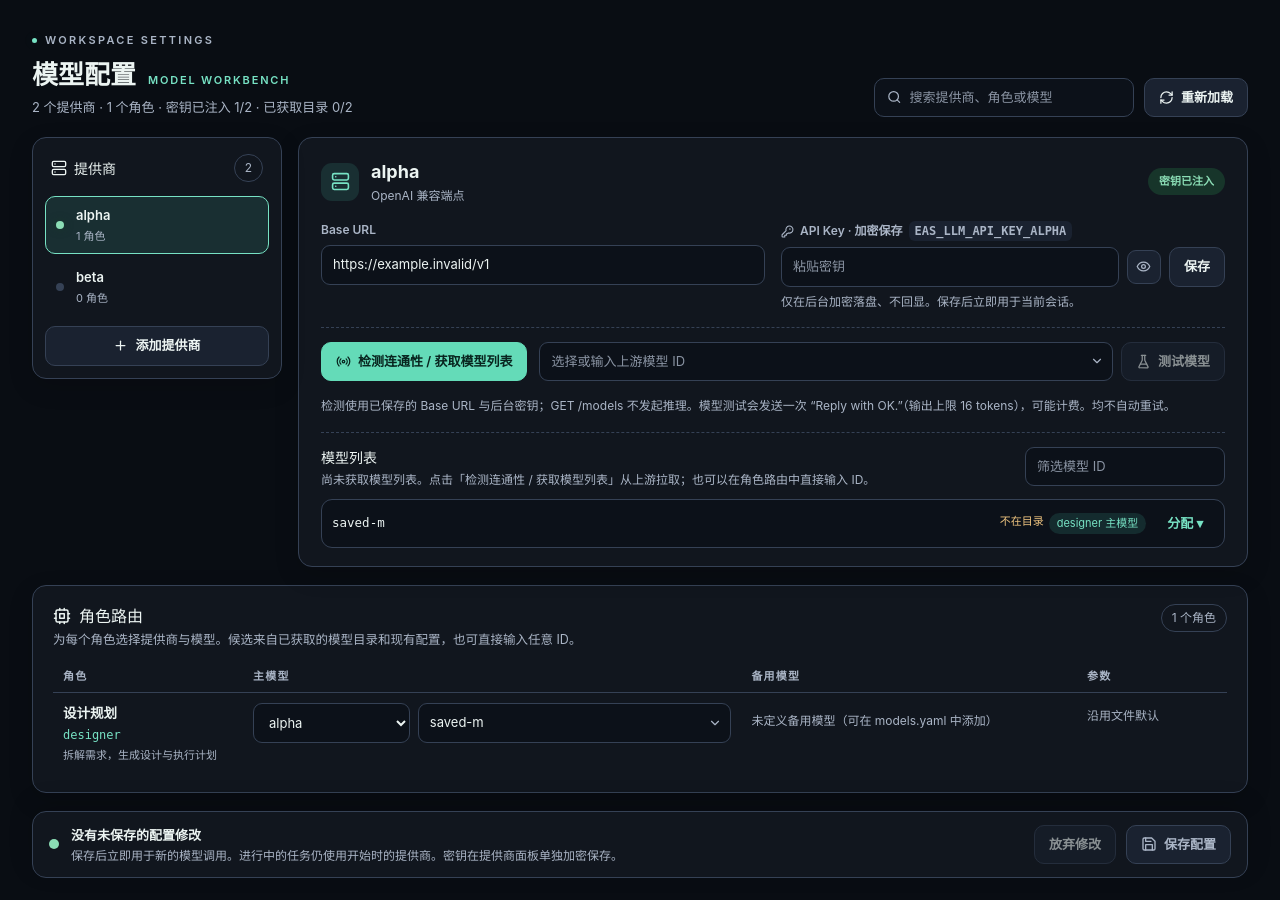
提供商面板 · 上游检测 › 有未保存草稿时改为“保存并检测”：先保存配置、再保存密钥、最后检测已保存端点
The width and height of the screenshot is (1280, 900).
Expected: the field named "alpha Base URL" is shown, [321, 245, 765, 284]
Type "-edited" into the dropdown named "designer 主模型 ID" at (575, 723), box [418, 703, 731, 743]
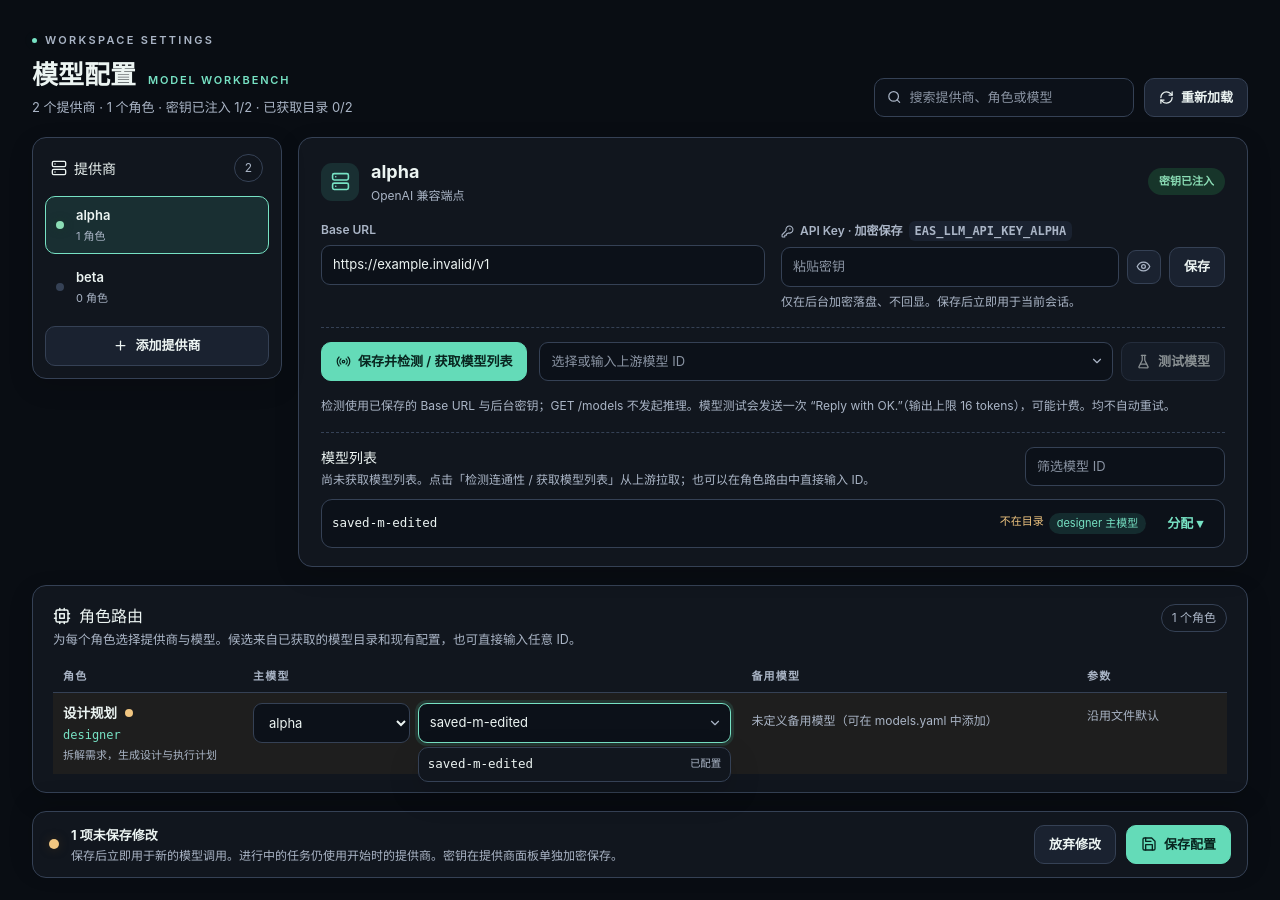
Type "sk-new" into the password field named "alpha API Key" at (950, 267), box [781, 247, 1119, 286]
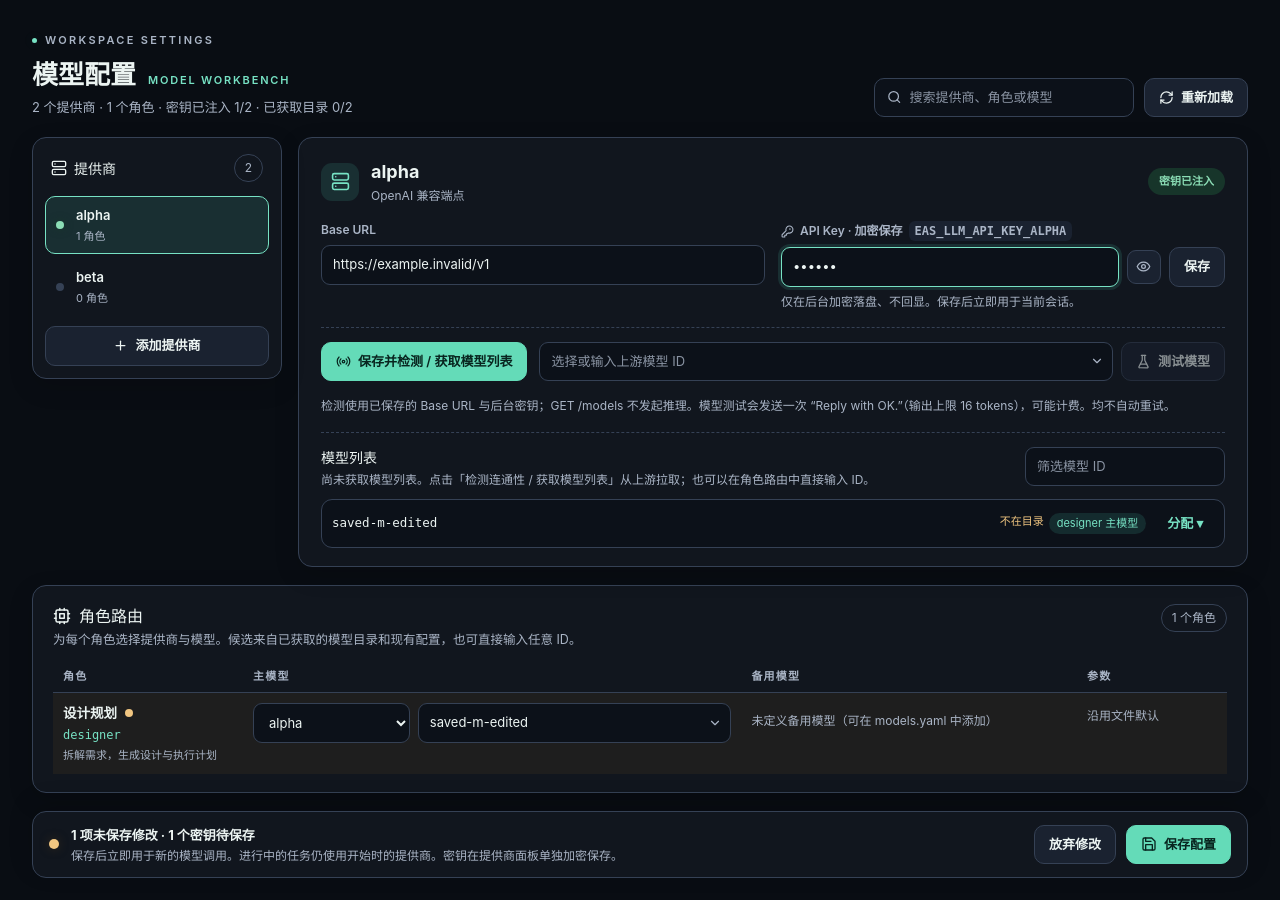
Expected: the button "测试模型" is disabled, [1121, 342, 1225, 381]
Click the button "保存并检测 / 获取模型列表" at (424, 361), box [321, 342, 528, 381]
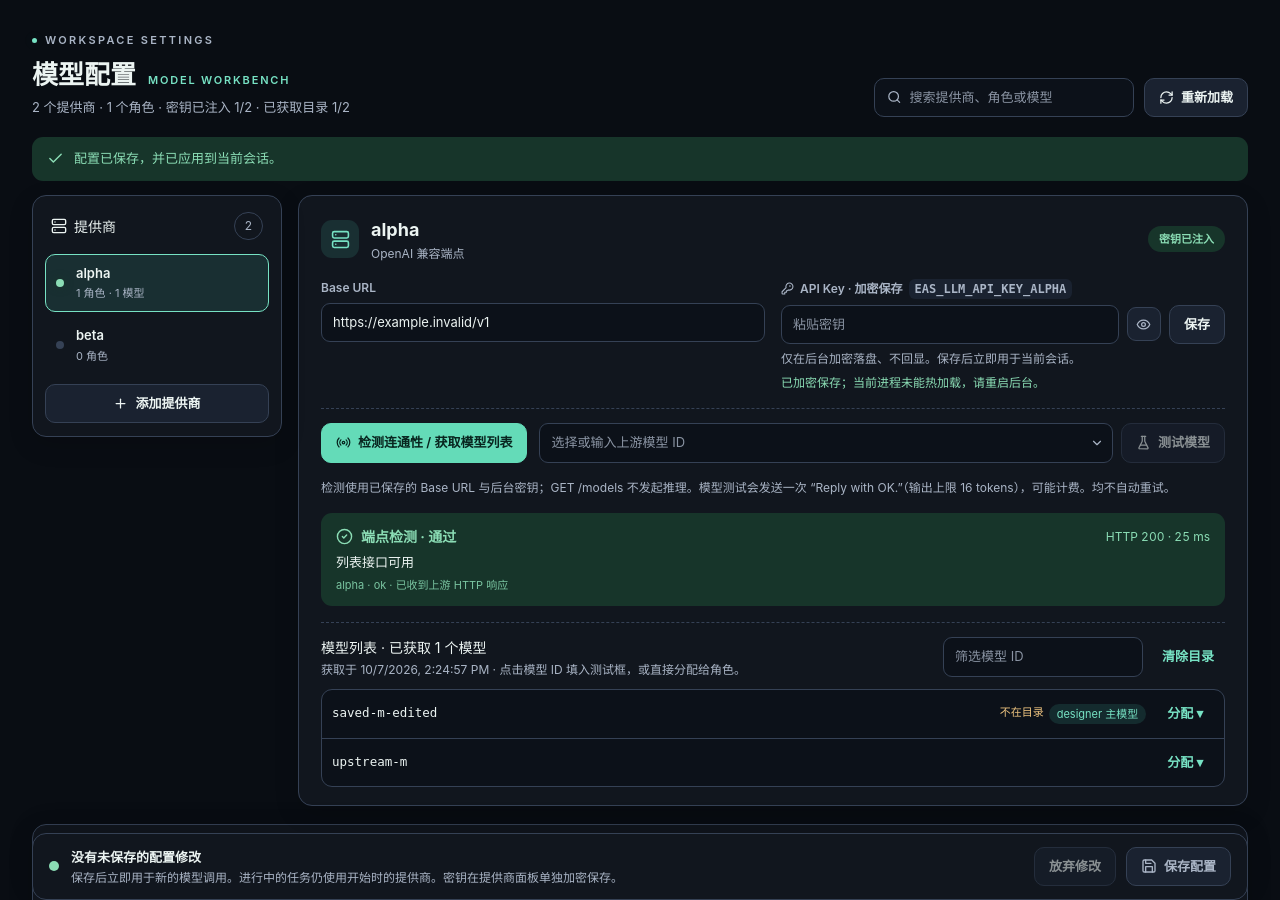
Expected: the button "检测连通性 / 获取模型列表" is enabled, [321, 423, 528, 462]
Result: the heading "模型列表 · 已获取 1 个模型" is shown at [321, 639, 486, 656]
Result: the password field named "alpha API Key" is empty at [781, 304, 1119, 344]
